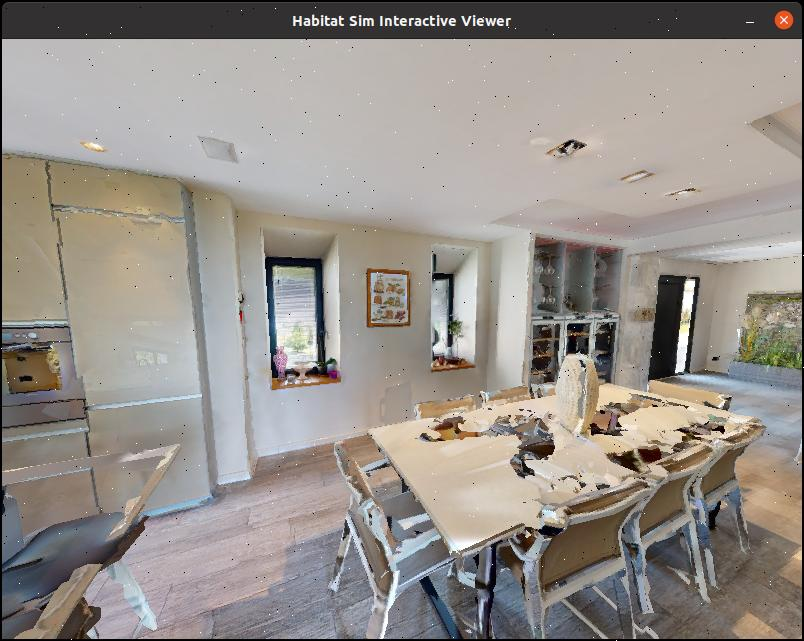chair: (312, 428, 480, 640), (478, 441, 656, 641)
table: (351, 361, 763, 617)
